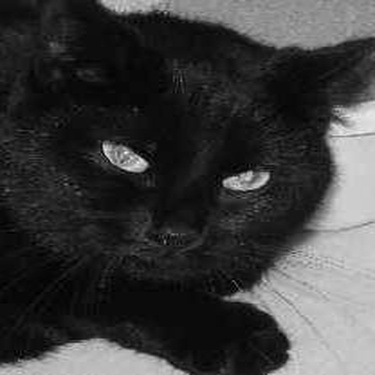cat: (6, 2, 367, 371)
